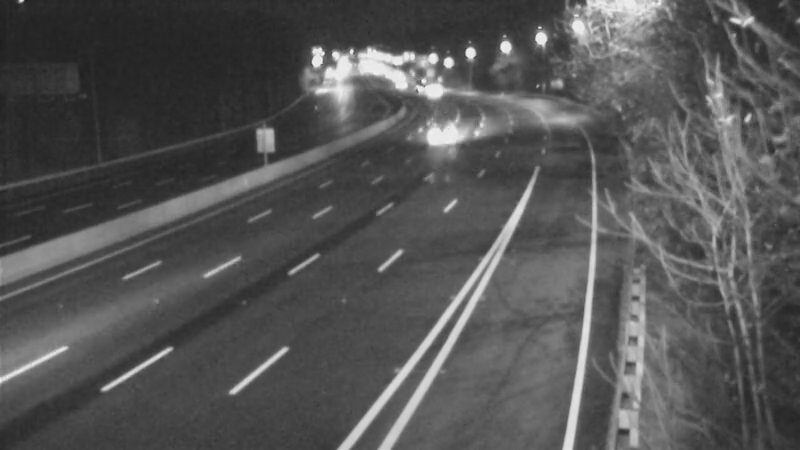vehicle: (400, 59, 450, 109), (376, 59, 426, 109), (408, 67, 458, 117), (415, 105, 465, 155)
